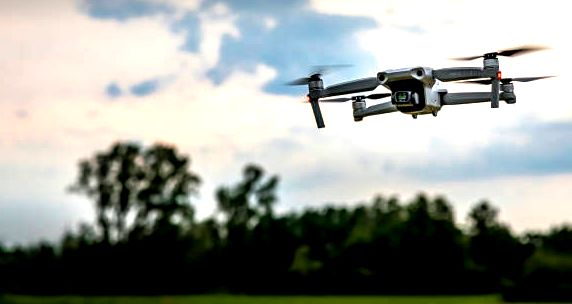Drone: (275, 41, 562, 130)
